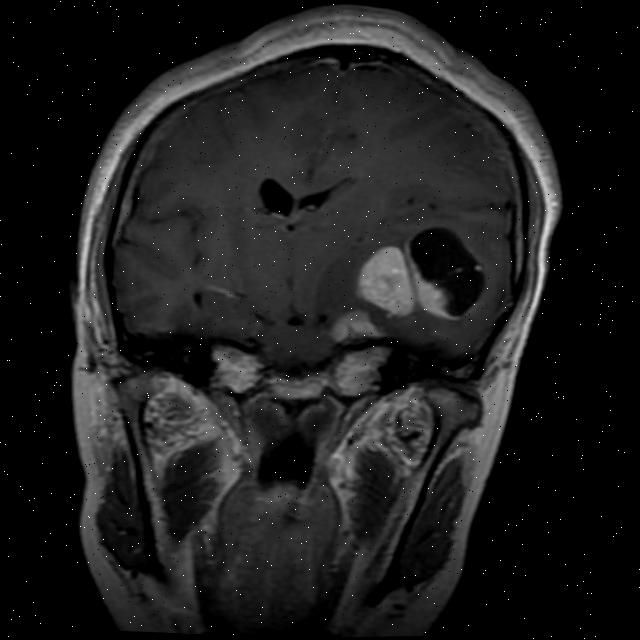Meningioma: (353, 221, 493, 323), (331, 312, 386, 350)
Pituitary: (263, 371, 330, 407)
